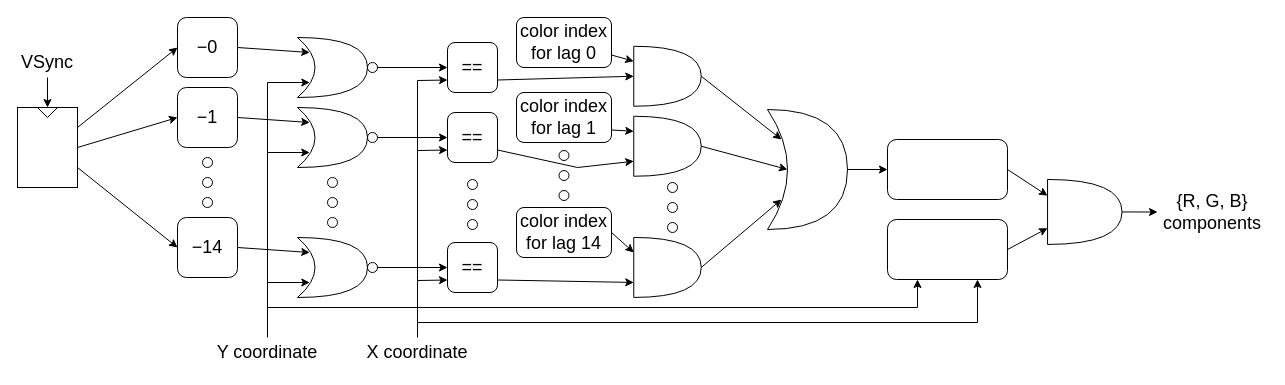
This 1285x385 diagram has some shape labels left out. The shapes that lost their labels are listed below. From the top down, each one's centre as x and y in pixels, then its label:
At point (47, 147): "9-bit frame counter".
At point (947, 169): "convert 3-bit index into 6-bit color".
At point (947, 249): "is within addressable region?".
